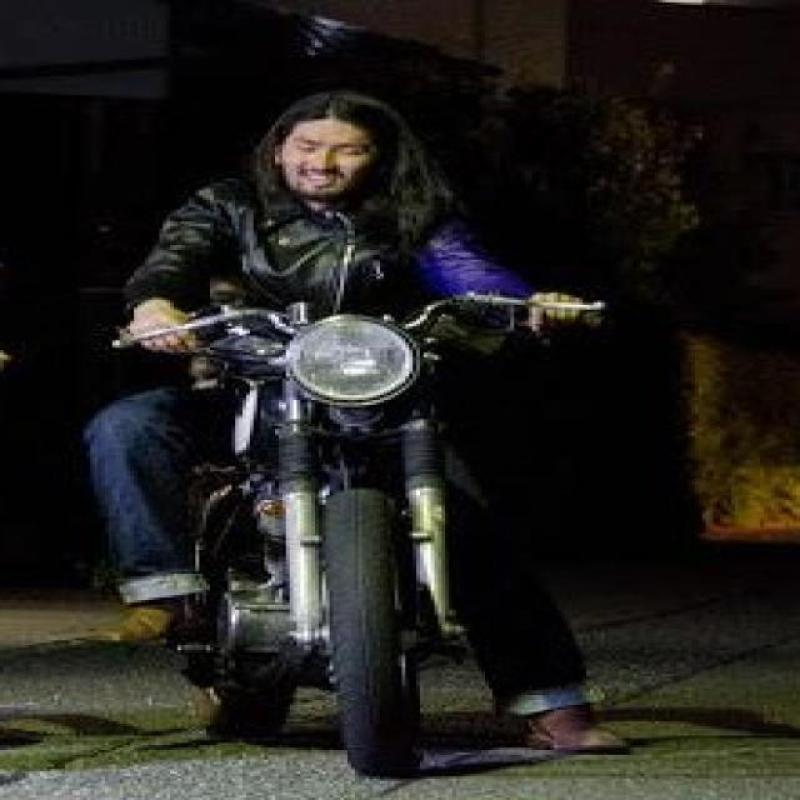nohelmet: (236, 90, 410, 218)
